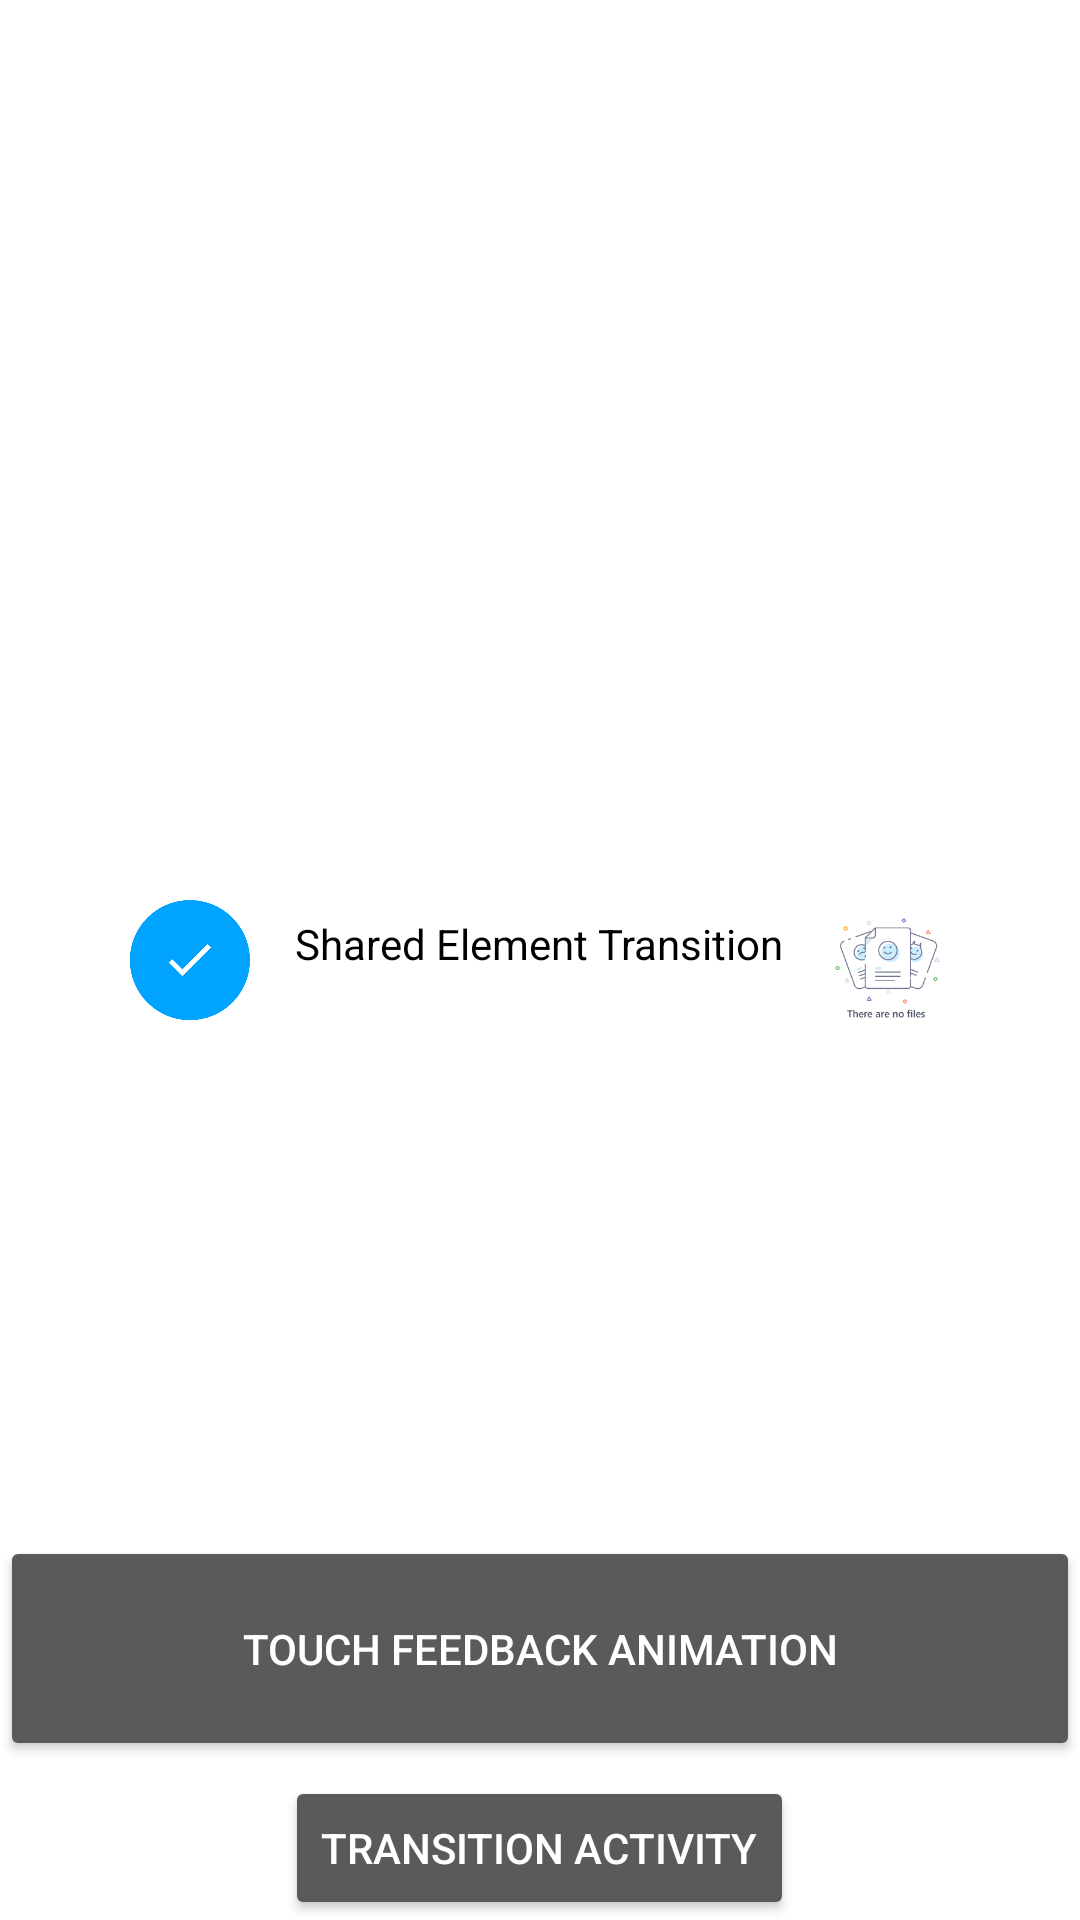

Named icons in this screenshot (1080*1920) and their bounding boxes, (x1, y1, x2, y2):
done: (130, 900, 250, 1020)
